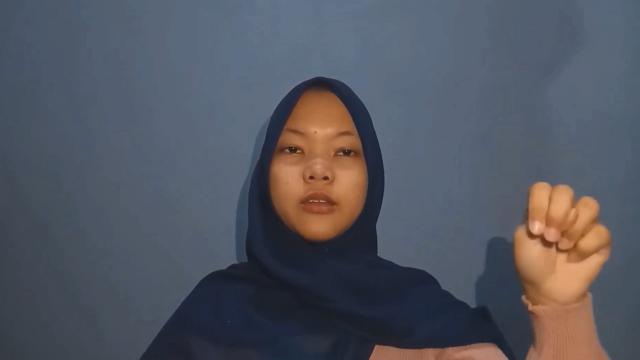N: (512, 181, 614, 297)
